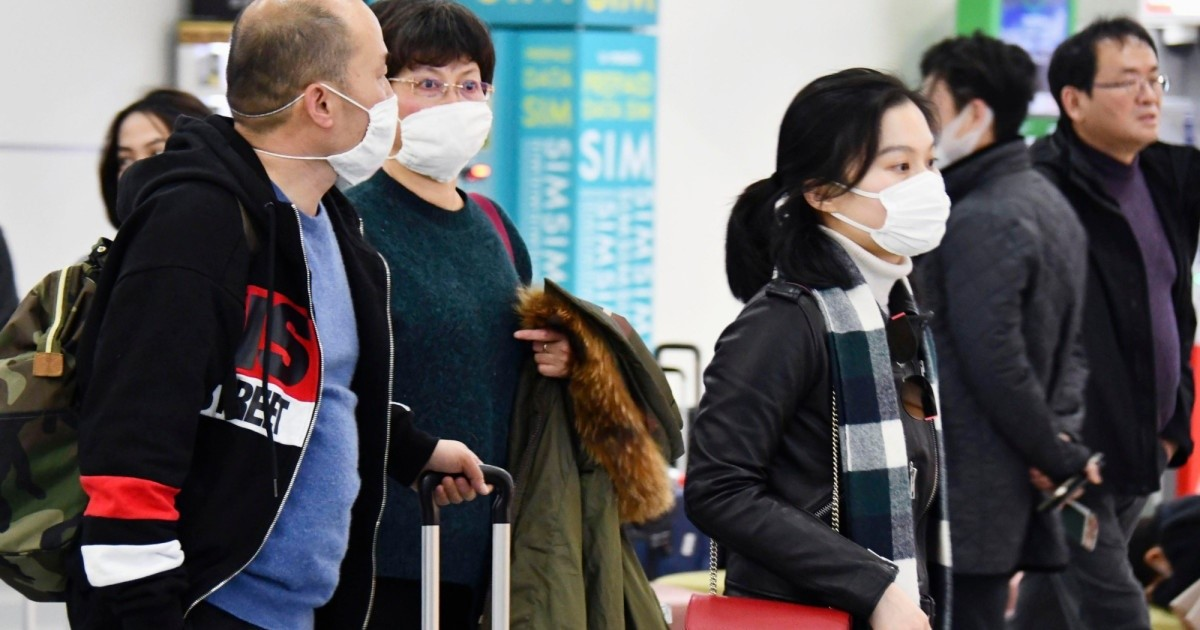face_no_mask: (99, 88, 196, 200)
face_with_mask: (783, 64, 953, 261), (225, 0, 400, 185), (373, 0, 497, 182), (918, 31, 1036, 166)
